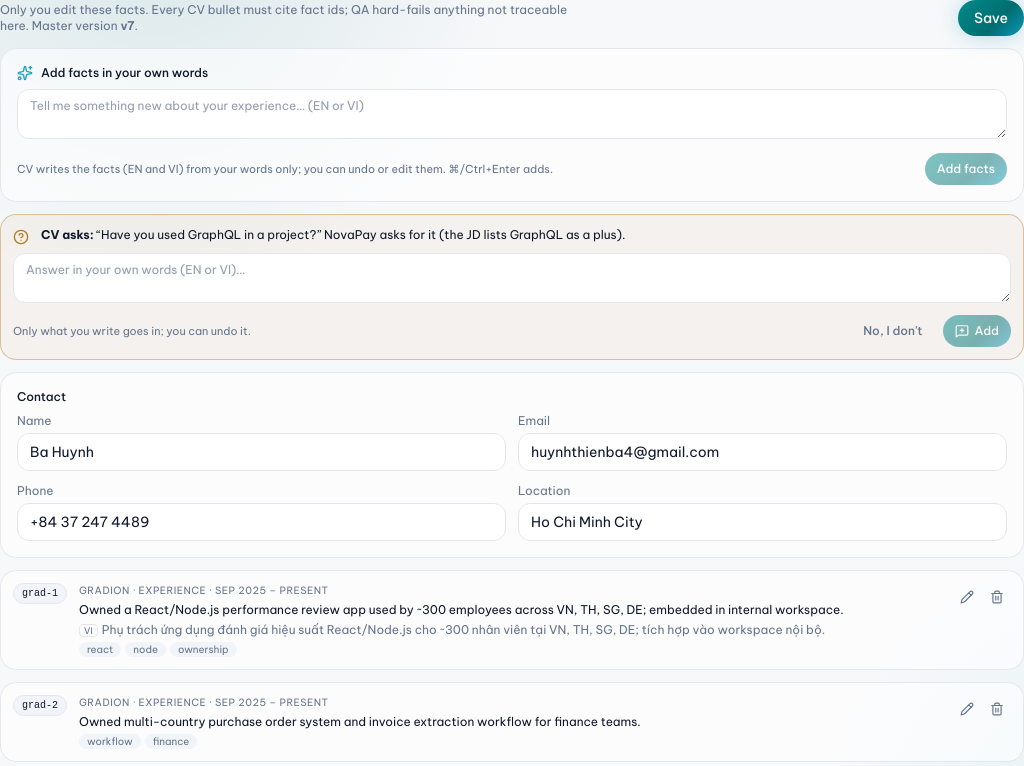
Test: MasterCvScreen (UC-20) › a draft sent from a stale page shows the reload banner (409 master_cv_changed)
Type "I mentor two juniors at Gradion" into the text box with placeholder "Tell me something new about your experience… (EN or VI)" at (512, 114), box x1=17 y1=89 x2=1007 y2=139
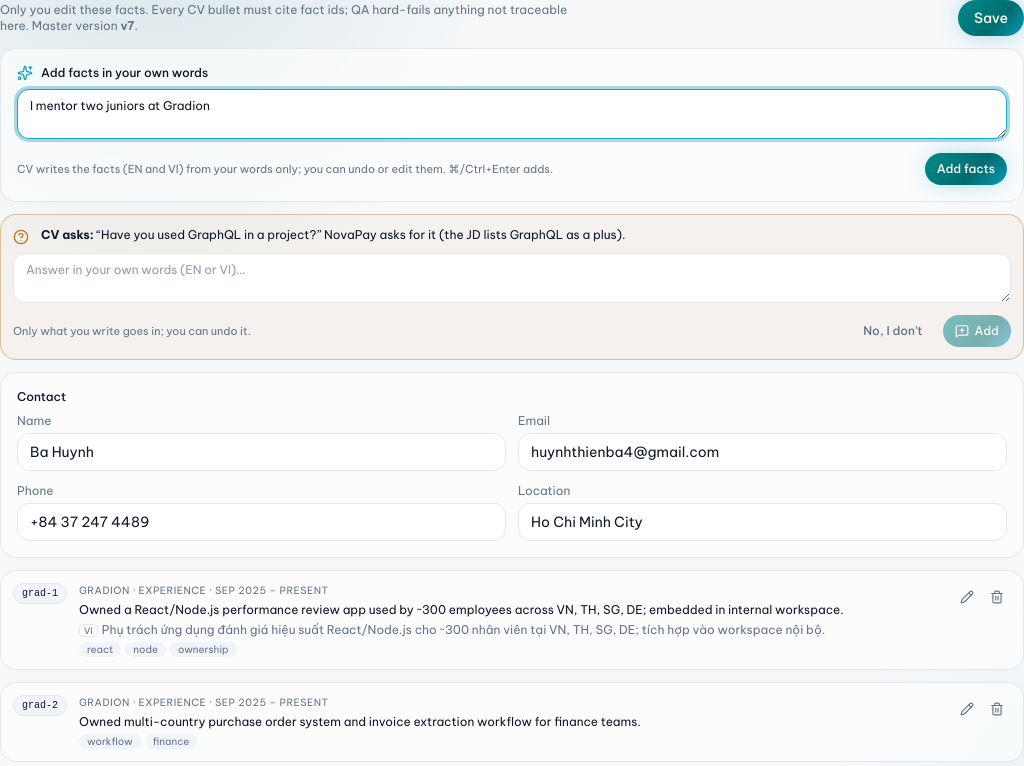
Click the button "Add facts" at (966, 169), box x1=925 y1=153 x2=1007 y2=185
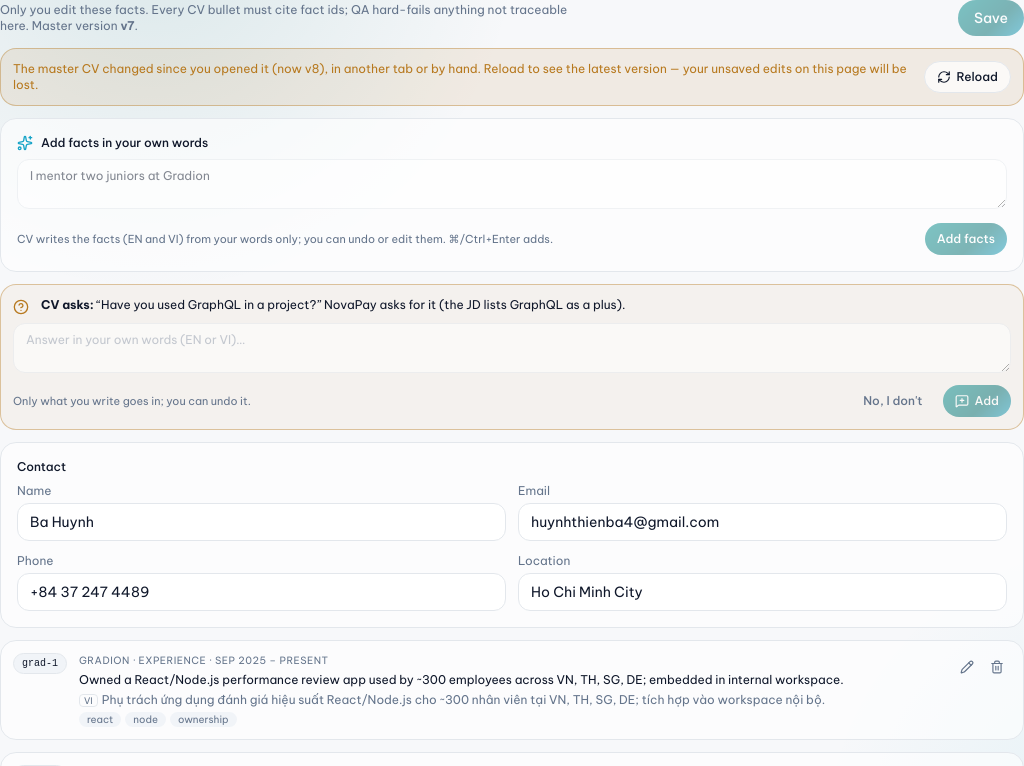
Expected: the message with test id "cv-conflict" shows "now v8", x1=0 y1=48 x2=1023 y2=106
